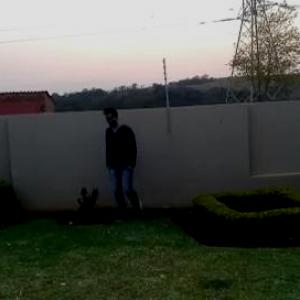follow: (105, 104, 141, 224)
